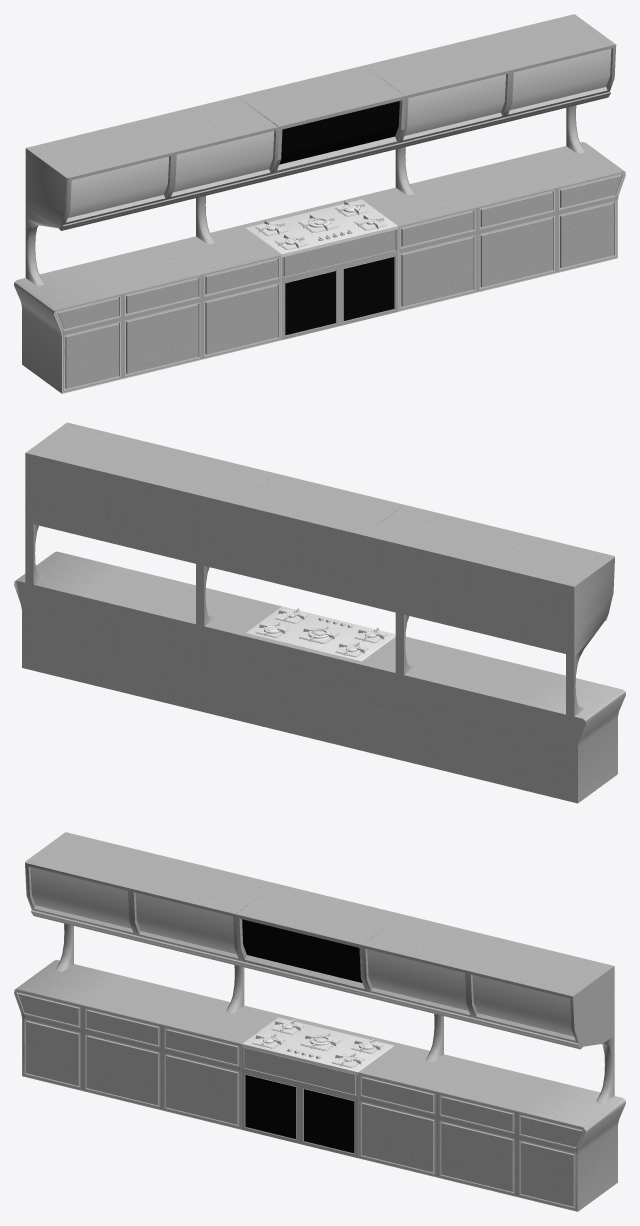
The model's file is Kitchen.fbx.
3 views of the same model, one above another, from view 1: azimuth 30°, elevation 25°; view 2: azimuth 150°, elevation 25°; view 3: azimuth 330°, elevation 25° (orthographic).
Visible parts, largest first — view 1: Tumb, Cube_004, Glass, Yash_Plita, Dark_glass_001, Tumb_plita, Plita, Dark_glass, Cube_005, Kitch_Kol; view 2: Tumb, Cube_004, Yash_Plita, Tumb_plita, Plita, Kitch_Kol; view 3: Tumb, Cube_004, Glass, Yash_Plita, Dark_glass_001, Tumb_plita, Plita, Dark_glass, Cube_005, Kitch_Kol.
Boxes of the visible parts, <box> form: Tumb: <box>14,142,625,393</box>; Cube_004: <box>25,14,616,228</box>; Glass: <box>68,49,611,217</box>; Yash_Plita: <box>237,65,405,173</box>; Dark_glass_001: <box>285,257,394,334</box>; Tumb_plita: <box>242,197,398,339</box>; Plita: <box>245,199,397,257</box>; Dark_glass: <box>279,101,399,164</box>; Cube_005: <box>58,91,610,230</box>; Kitch_Kol: <box>25,105,584,285</box>; Tumb: <box>14,551,625,803</box>; Cube_004: <box>25,422,614,655</box>; Yash_Plita: <box>236,473,403,604</box>; Tumb_plita: <box>241,633,361,749</box>; Plita: <box>246,606,395,661</box>; Kitch_Kol: <box>25,522,584,716</box>; Tumb: <box>14,960,625,1211</box>; Cube_004: <box>25,832,614,1046</box>; Glass: <box>30,867,573,1036</box>; Yash_Plita: <box>236,883,403,992</box>; Dark_glass_001: <box>245,1075,354,1152</box>; Tumb_plita: <box>241,1014,397,1157</box>; Plita: <box>242,1017,393,1075</box>; Dark_glass: <box>242,919,362,982</box>; Cube_005: <box>30,910,582,1049</box>; Kitch_Kol: <box>55,923,614,1103</box>.
Size of the model in its own units: 6.4 by 2.31 by 0.8068.
